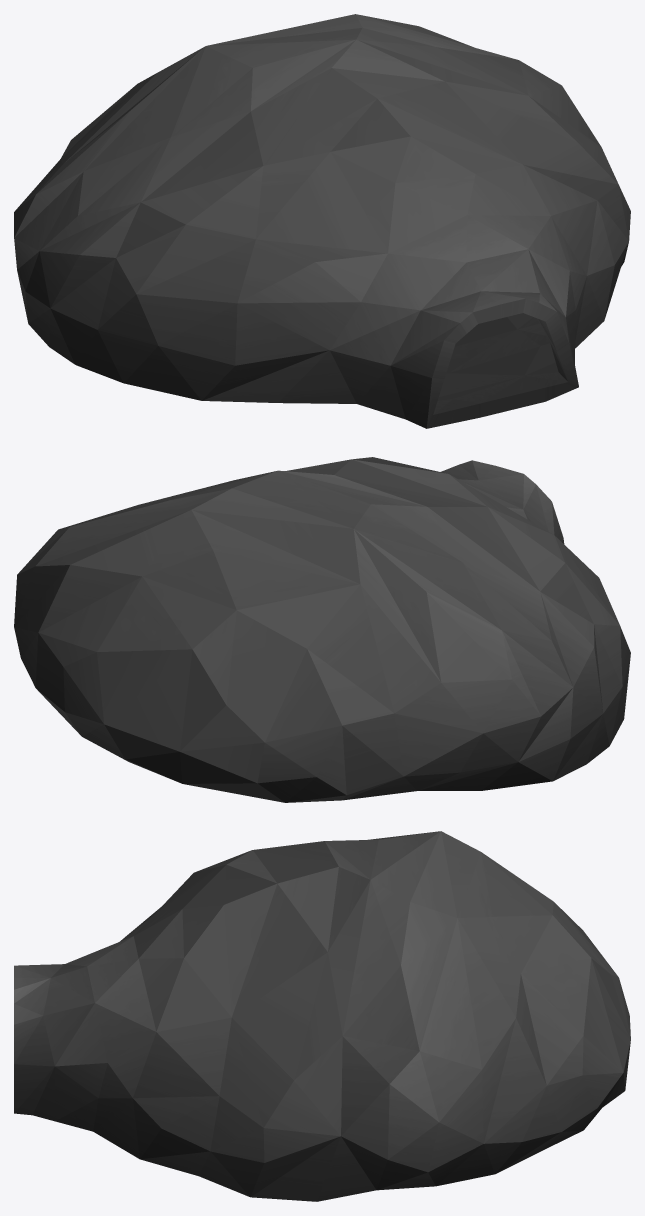
File: GL-Cave-part-08-LOD3.fbx
The picture shows the model from 3 angles, top to bottom: view 1: azimuth 30°, elevation 25°; view 2: azimuth 150°, elevation 25°; view 3: azimuth 270°, elevation 25°; orthographic projection. The views are drawn at different scales.
Visible parts, largest first — view 1: GL_Cave_part_08; view 2: GL_Cave_part_08; view 3: GL_Cave_part_08.
Part boxes in pixels (x1,y1,x2,y2): GL_Cave_part_08: [14, 14, 630, 428]; GL_Cave_part_08: [14, 457, 630, 802]; GL_Cave_part_08: [14, 831, 630, 1201].
Size of the model in its own units: 12.51 by 4.85 by 12.26.
